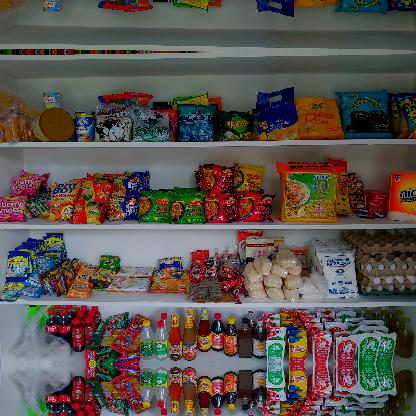Lady-s-Choice: (32, 107, 74, 141)
